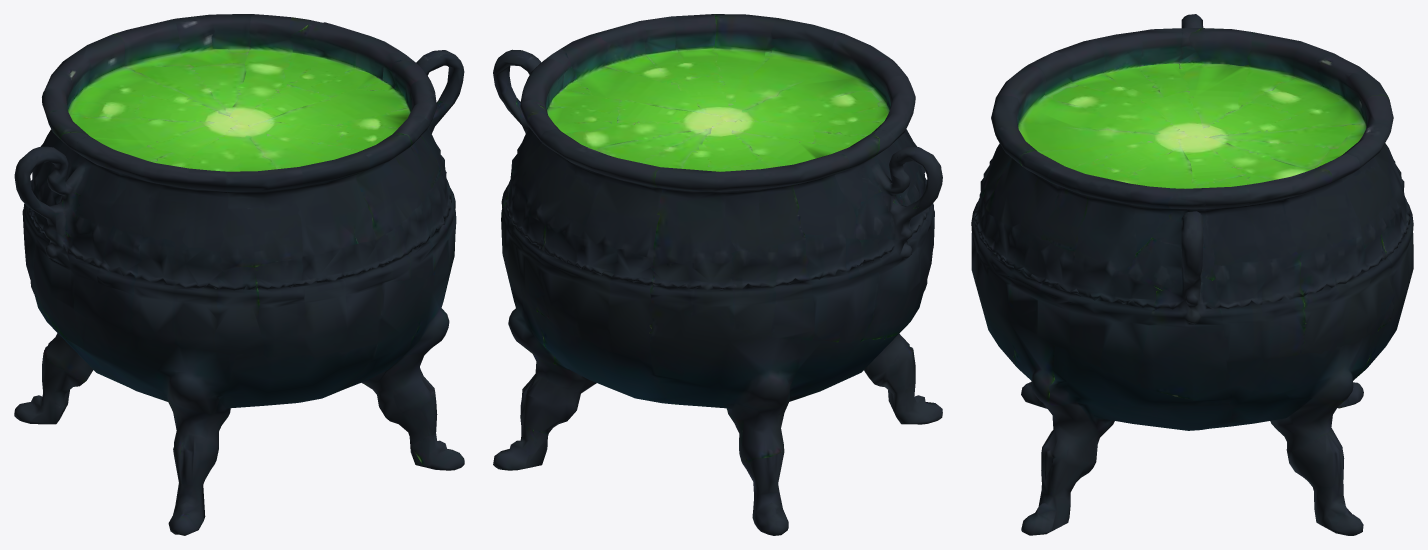
Rendered from cauldron.glb.
The picture shows the model from 3 angles, left to right: view 1: azimuth 30°, elevation 25°; view 2: azimuth 150°, elevation 25°; view 3: azimuth 270°, elevation 25°; orthographic projection. The views are drawn at different scales.
Size of the model in its own units: 1.9 by 1.42 by 1.6.
Materials: 1 (1 with a texture image).
